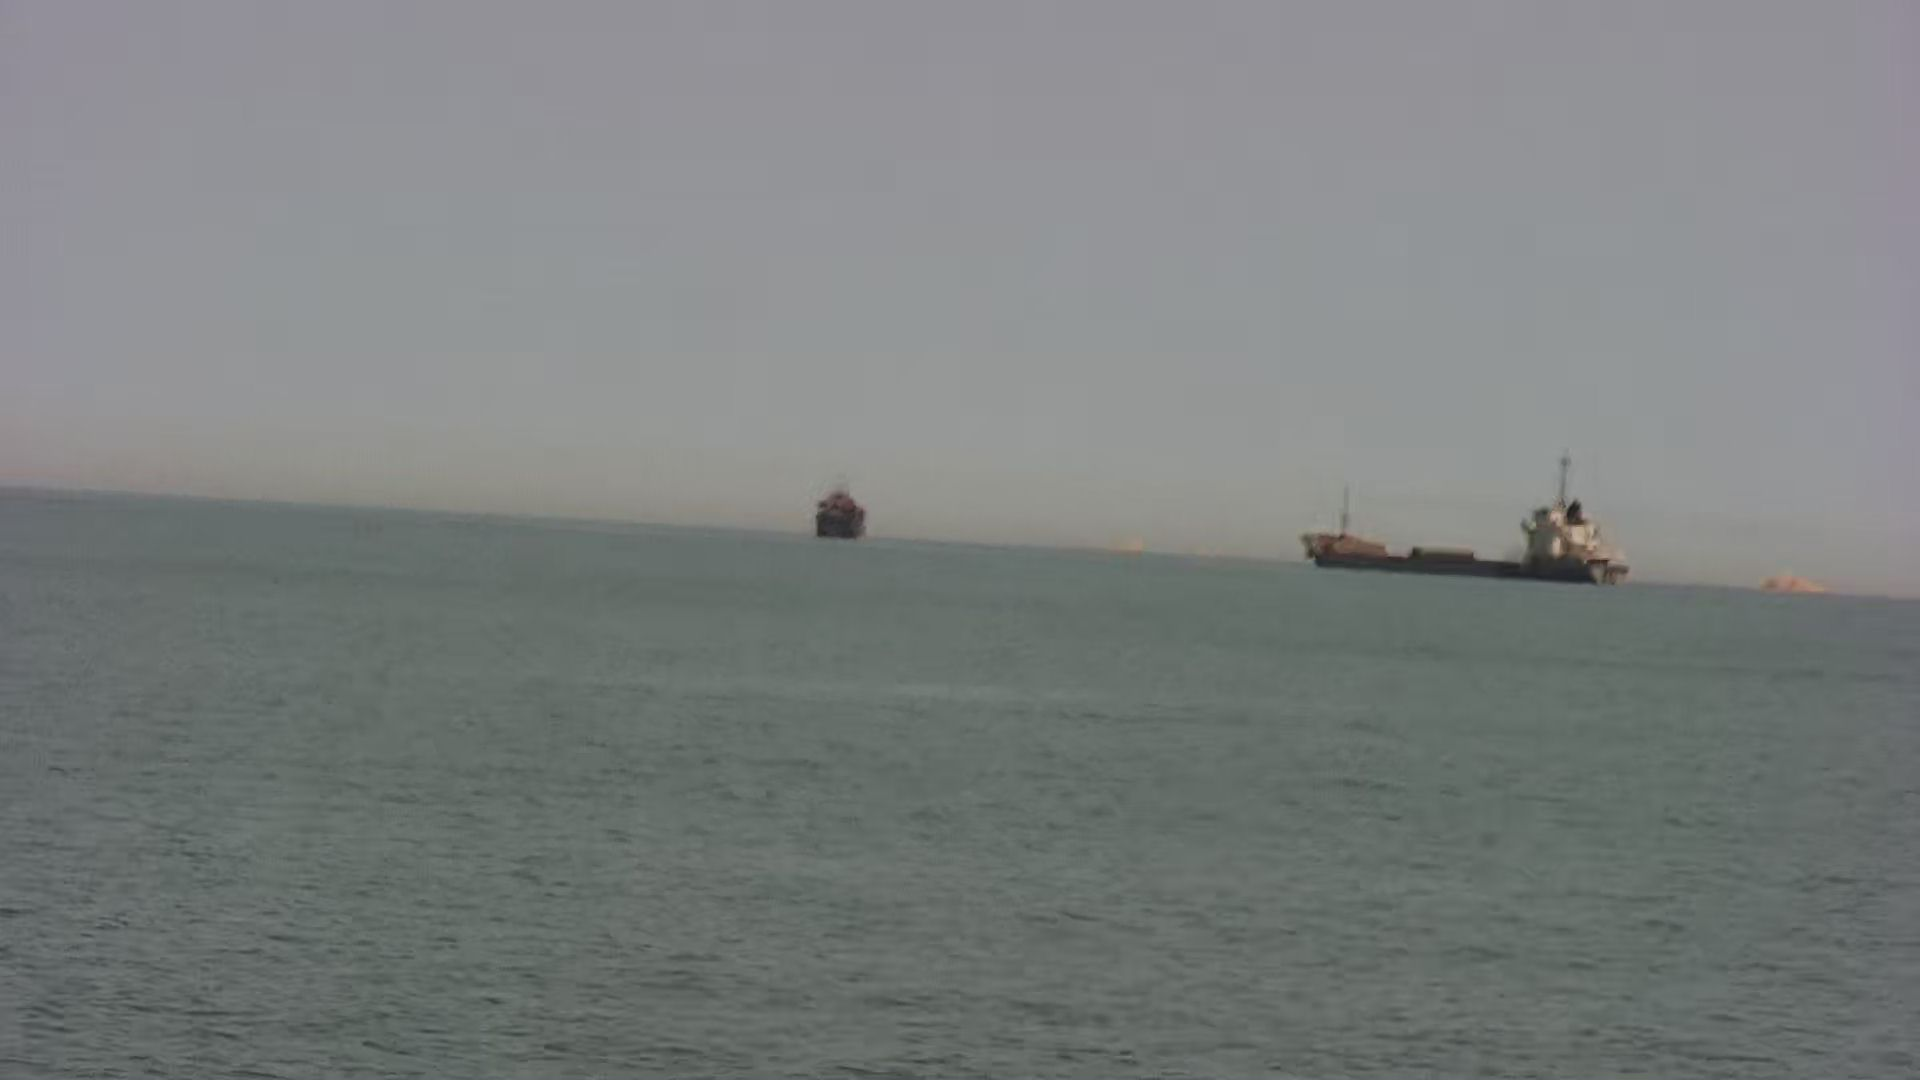rock: (1754, 571, 1838, 597)
ship: (1288, 464, 1659, 595), (810, 473, 872, 546)
